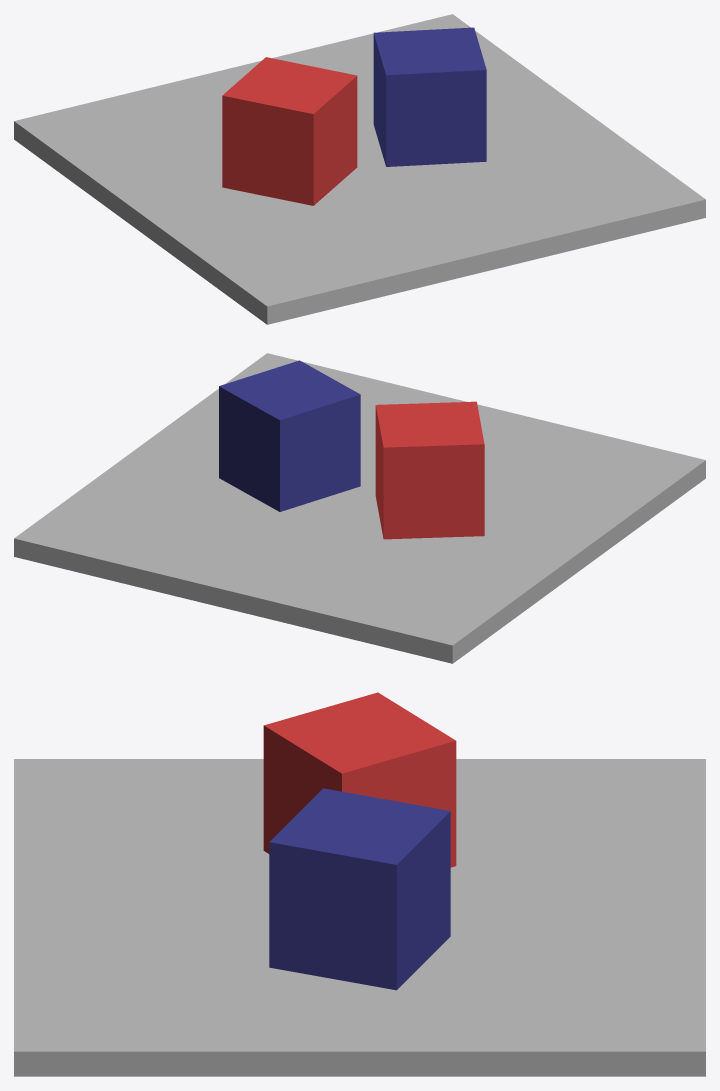
Rendered from extensions.glb.
3 views of the same model, one above another, from view 1: azimuth 30°, elevation 25°; view 2: azimuth 150°, elevation 25°; view 3: azimuth 270°, elevation 25° (orthographic). The views are drawn at different scales.
Parts seen in each view (by area): view 1: Floor, Coated, Velvet; view 2: Floor, Velvet, Coated; view 3: Floor, Velvet, Coated.
Part boxes in pixels (x1,y1,x2,y2): Floor: (14,14,705,324); Coated: (222,57,357,205); Velvet: (373,27,486,166); Floor: (14,353,705,663); Velvet: (219,360,360,511); Coated: (375,401,484,539); Floor: (14,759,705,1076); Velvet: (269,788,450,990); Coated: (263,692,456,867).
Bounding box in the file's own units: 5 × 1.2 × 5.
